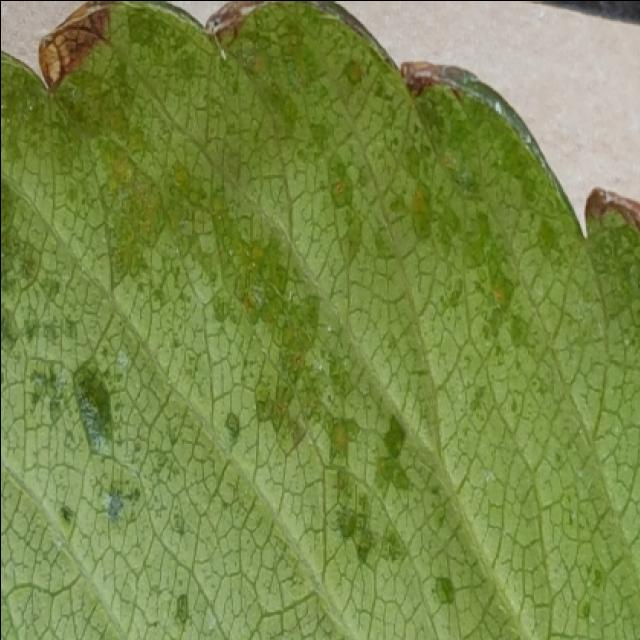Angular Leafspot: (2, 2, 640, 636)
